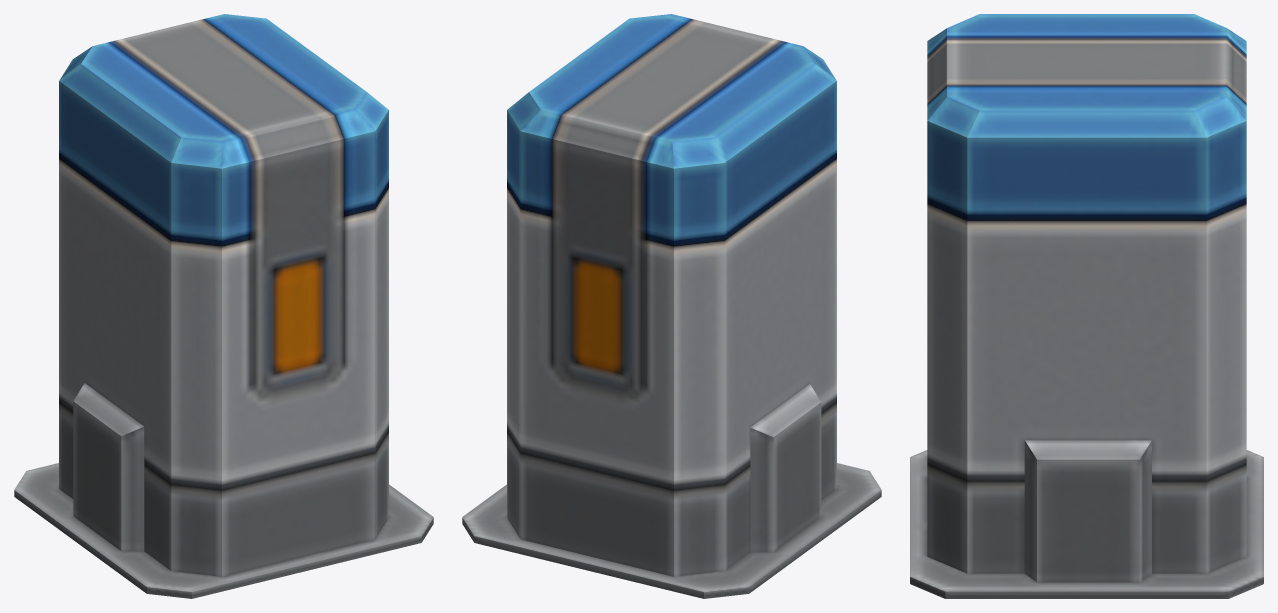
The model's file is allies_house_1.FBX.
3 renders of one model, left to right at view 1: azimuth 30°, elevation 25°; view 2: azimuth 150°, elevation 25°; view 3: azimuth 270°, elevation 25°, orthographic. The views are drawn at different scales.
Visible parts, largest first — view 1: allies_house_1; view 2: allies_house_1; view 3: allies_house_1.
Part boxes in pixels (x1,y1,x2,y2): allies_house_1: (14, 14, 433, 598); allies_house_1: (462, 14, 881, 598); allies_house_1: (910, 14, 1263, 598).
Size of the model in its own units: 819 by 1179 by 819.
